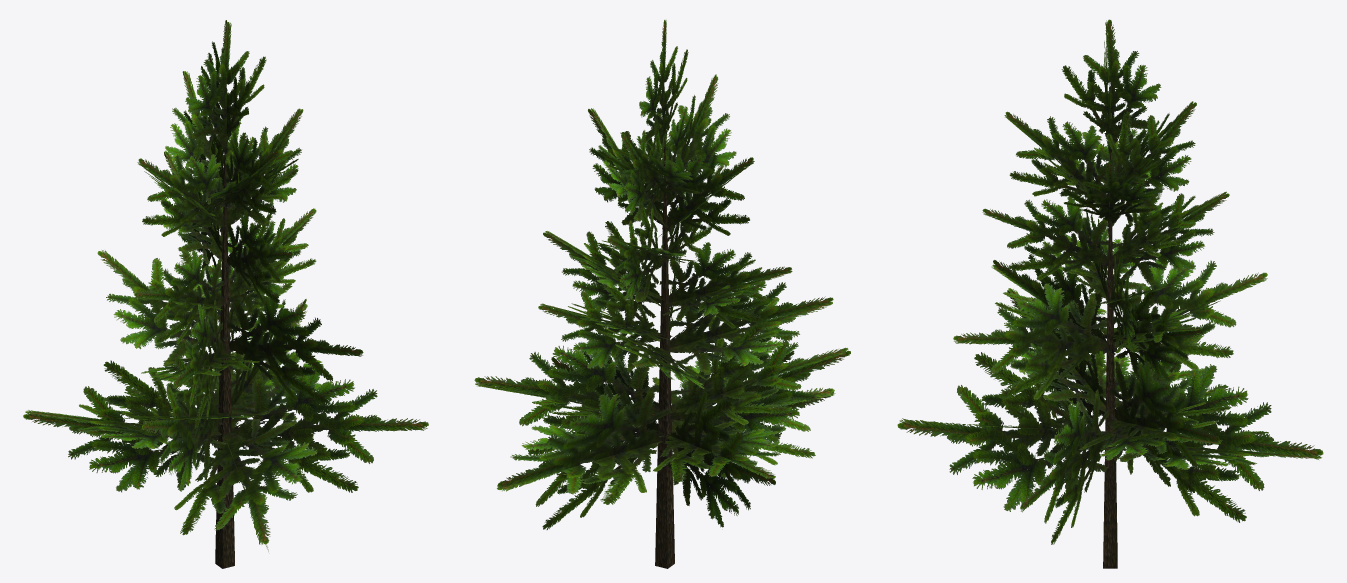
Rendered from fir-01.fbx.
3 renders of one model, left to right at view 1: azimuth 30°, elevation 25°; view 2: azimuth 150°, elevation 25°; view 3: azimuth 270°, elevation 25°, orthographic.
Visible parts, largest first — view 1: fir-01; view 2: fir-01; view 3: fir-01.
Boxes of the visible parts, x1,y1,x2,y2 form: fir-01: (23, 20, 428, 568); fir-01: (474, 20, 850, 568); fir-01: (897, 19, 1323, 568).
Size of the model in its own units: 308 by 493 by 359.
